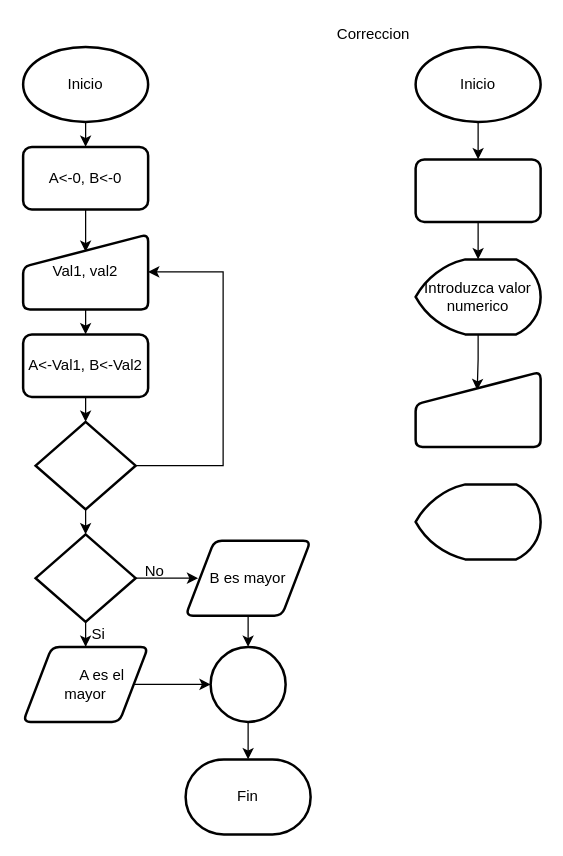
Some shapes in this 563 by 856 pixel diagram are drawn without their labels. Each missing label, with the centre of its shape:
A=0 B=0: the point at 477,190
A=3: the point at 85,465
a>b: the point at 85,577
Leer A: the point at 477,409
